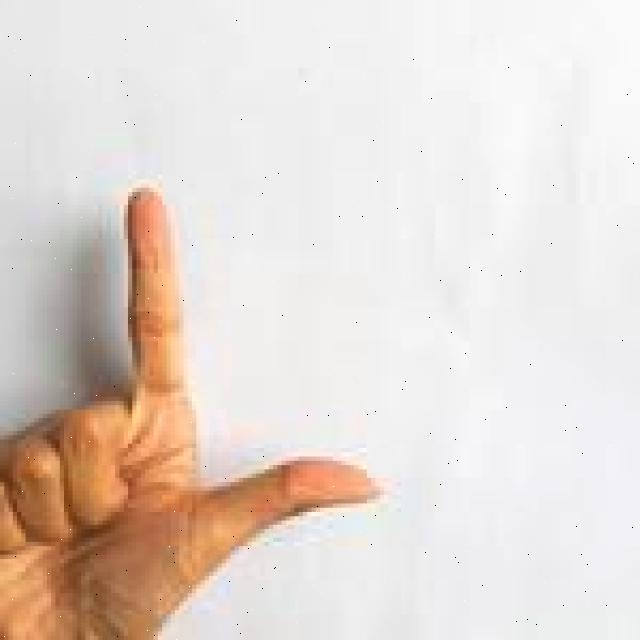L: (0, 177, 393, 639)
